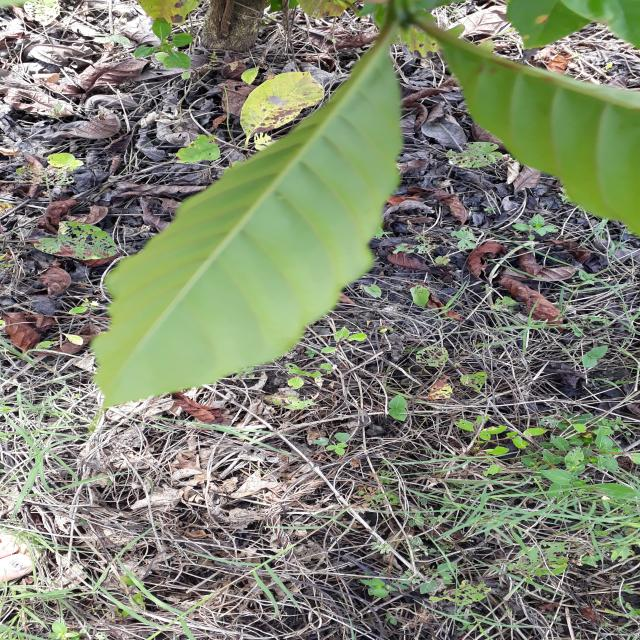Sanas: (93, 27, 403, 409)
